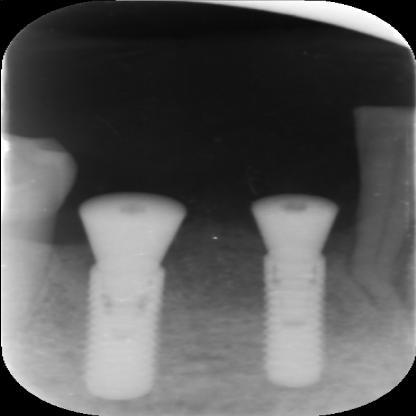ITI: (75, 260, 168, 402), (250, 252, 338, 392)
